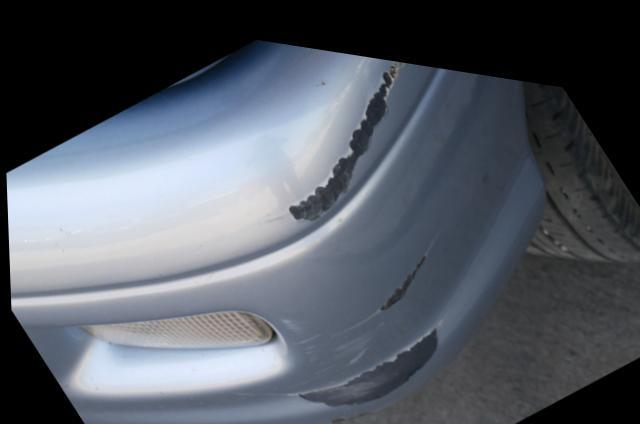scratch: (274, 216, 445, 360), (280, 47, 418, 218), (293, 309, 441, 400)
